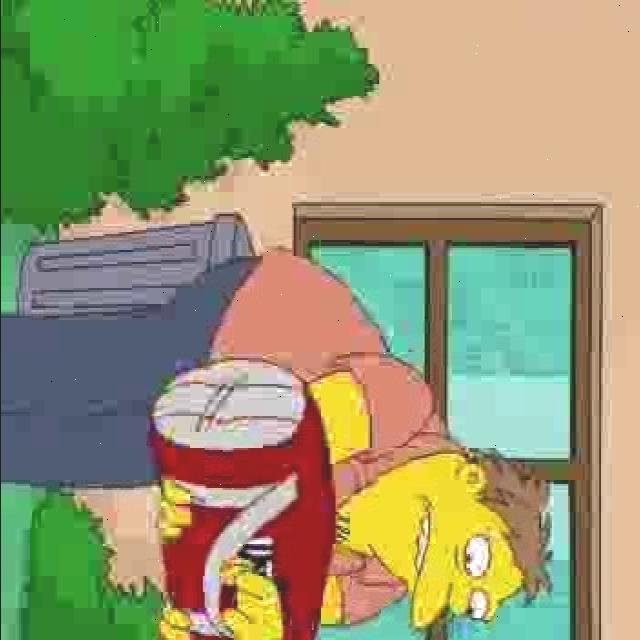Barney Gumble: (364, 445, 556, 635)
